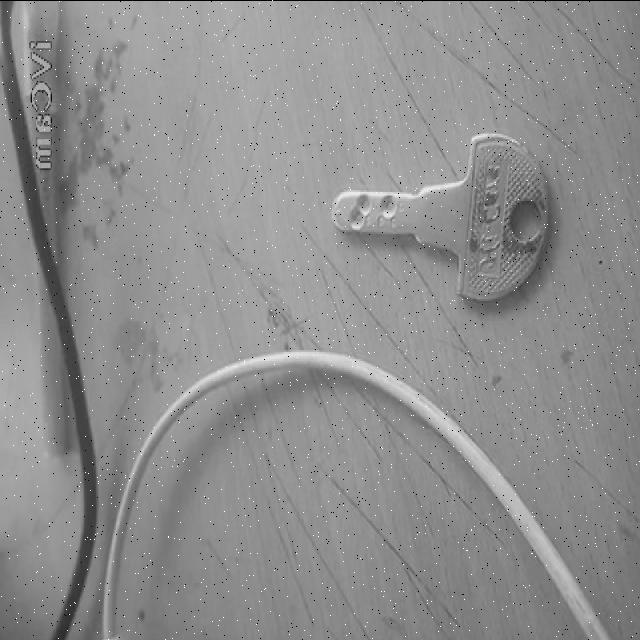key: (332, 133, 550, 300)
